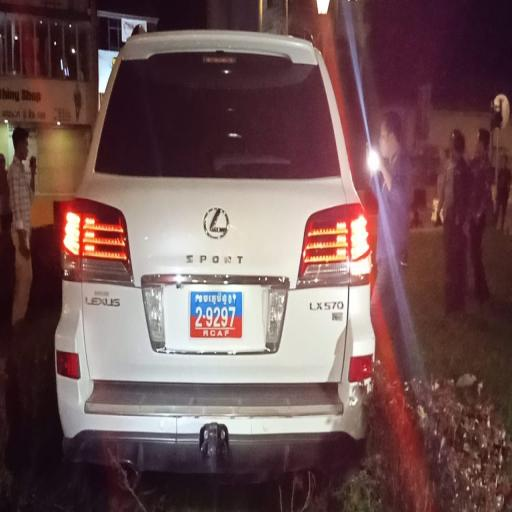Plate Number: (190, 290, 244, 338)
